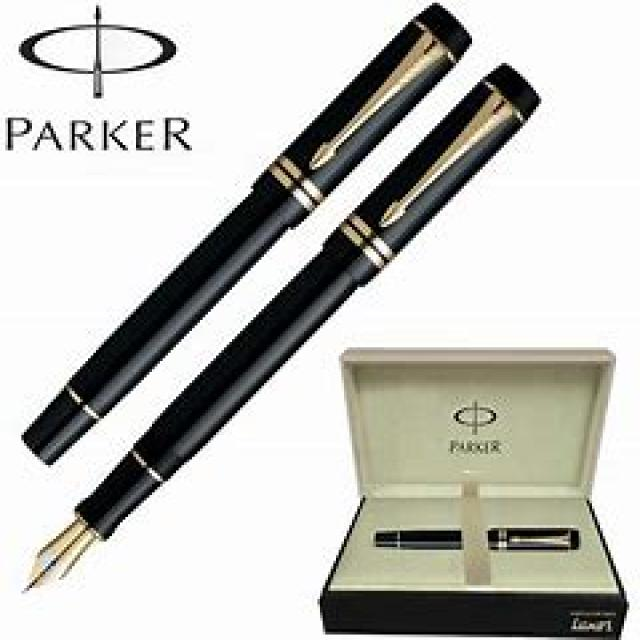pen: (21, 0, 544, 593), (369, 515, 579, 559)
